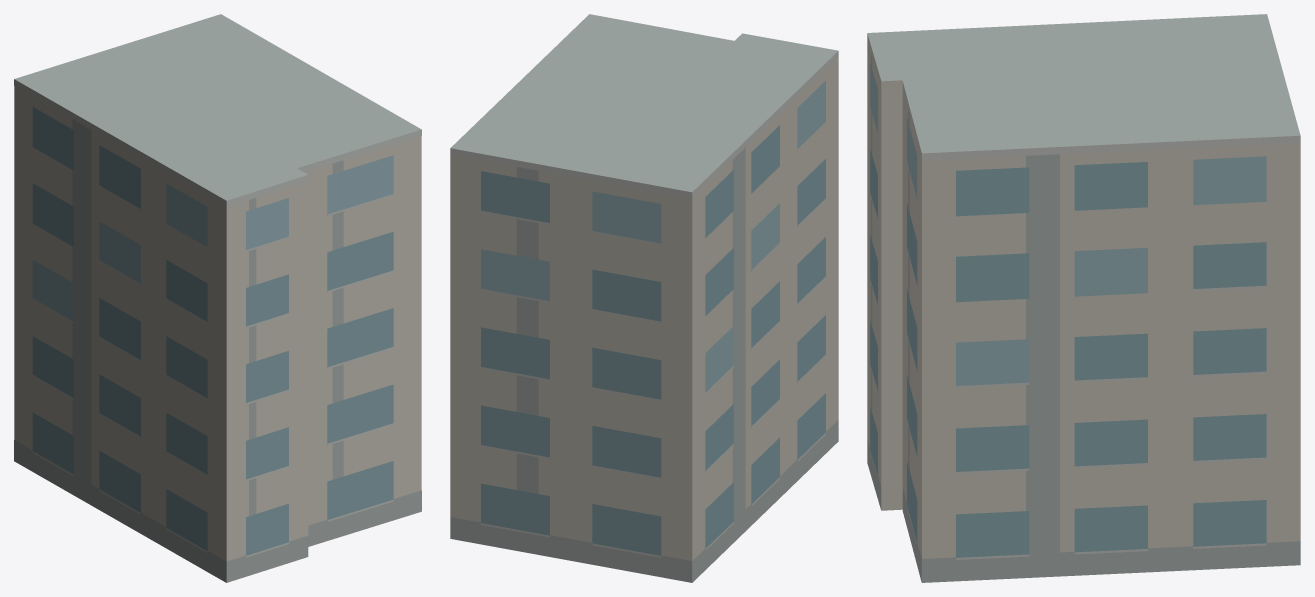
Rendered from survey-upis-32966217.glb.
The picture shows the model from 3 angles, left to right: view 1: azimuth 30°, elevation 25°; view 2: azimuth 150°, elevation 25°; view 3: azimuth 270°, elevation 25°; orthographic projection. The views are drawn at different scales.
Visible parts, largest first — view 1: survey-upis-32966217.tmp; view 2: survey-upis-32966217.tmp; view 3: survey-upis-32966217.tmp.
Part boxes in pixels (x1,y1,x2,y2): survey-upis-32966217.tmp: (14,14,421,582); survey-upis-32966217.tmp: (450,14,838,582); survey-upis-32966217.tmp: (867,14,1300,582).
Bounding box in the file's own units: 10.1 × 14.5 × 13.27.
